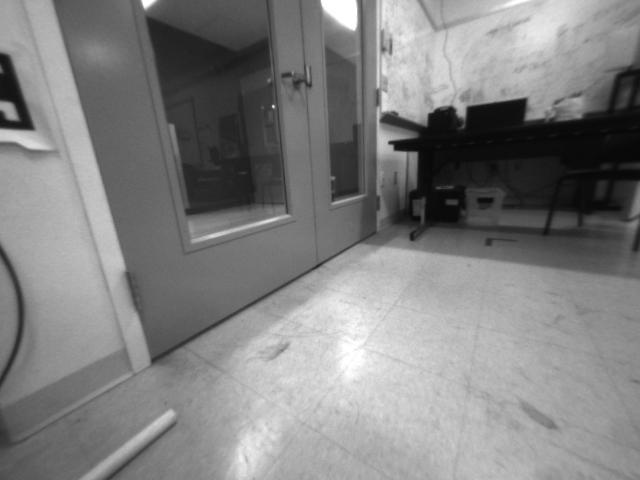door_handle: (278, 63, 309, 93)
